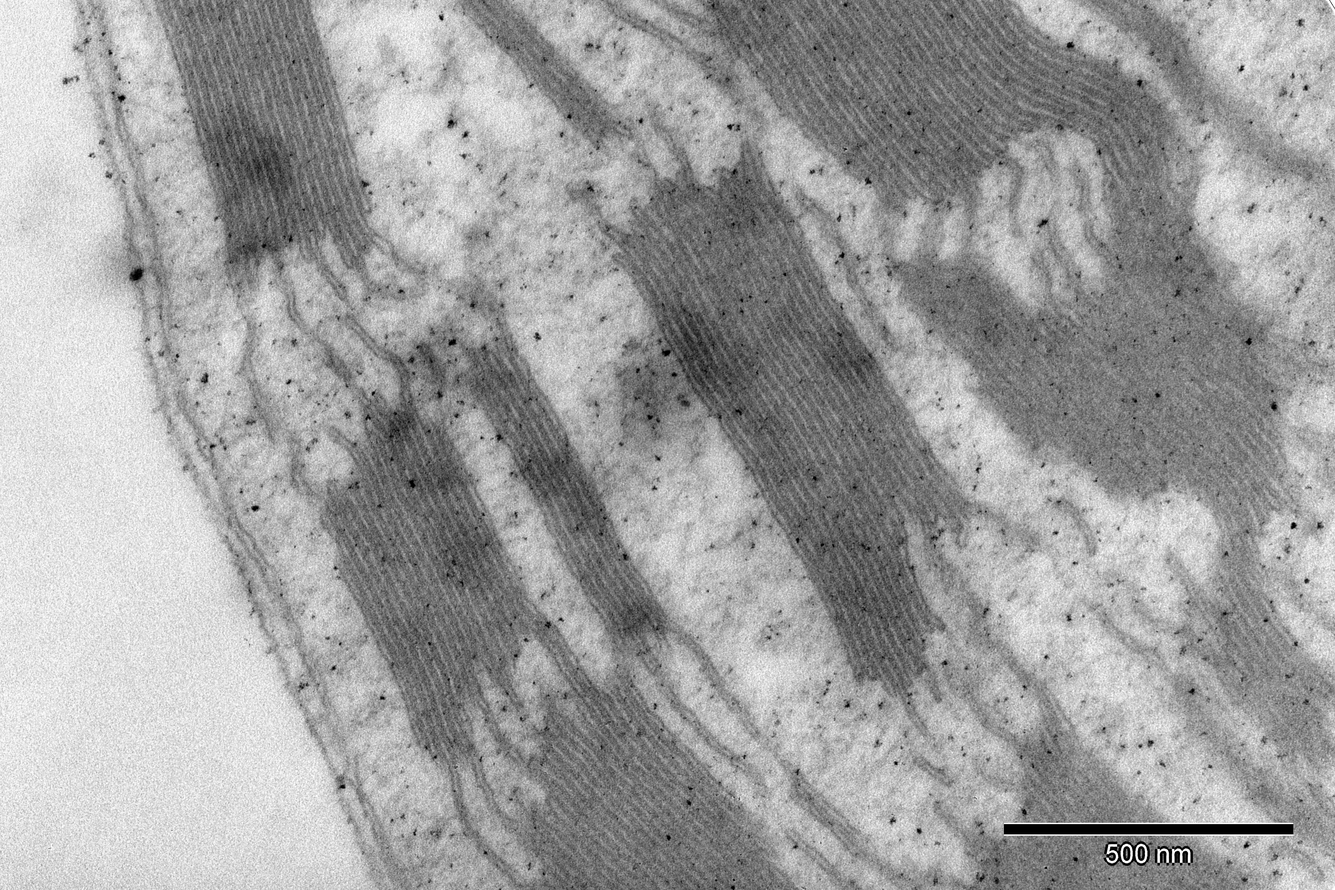granum: (608, 147, 985, 702), (886, 223, 1307, 567), (695, 0, 1204, 227), (314, 393, 549, 774), (892, 696, 1280, 890), (452, 328, 672, 655), (499, 666, 810, 890), (151, 0, 381, 273), (1066, 0, 1307, 188), (1173, 527, 1335, 771), (1158, 661, 1335, 865), (433, 0, 627, 153)
